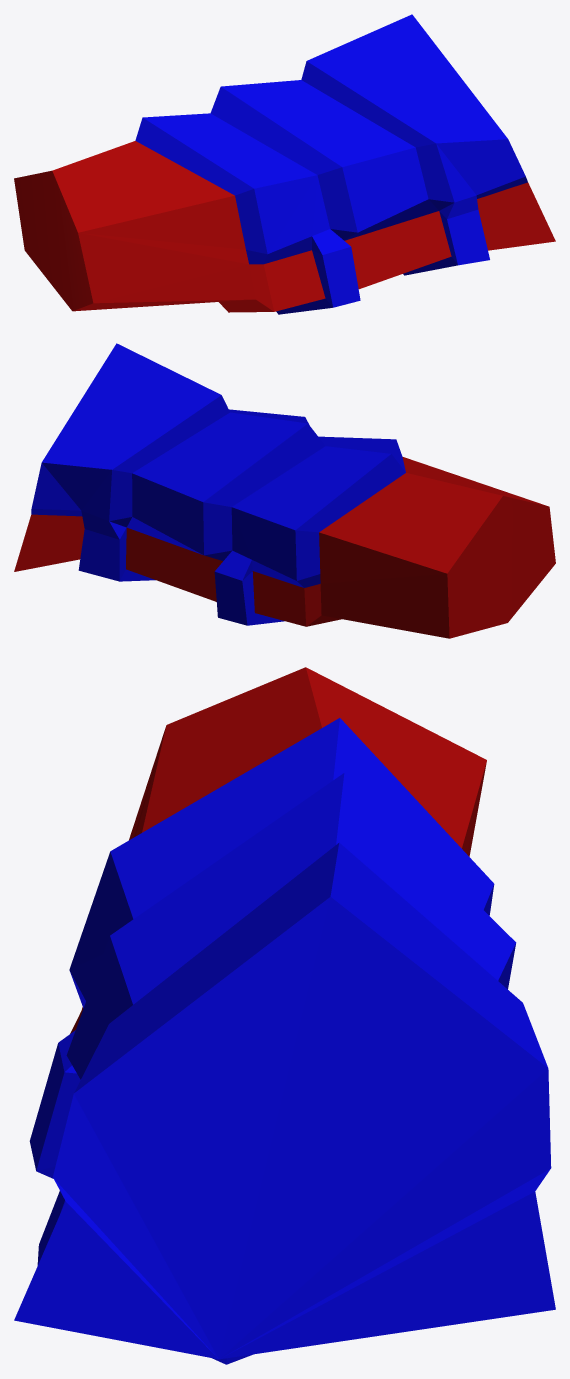
Rendered from Chr_ArmUpperRight_Male_Static_01.fbx.
The picture shows the model from 3 angles, top to bottom: view 1: azimuth 30°, elevation 25°; view 2: azimuth 150°, elevation 25°; view 3: azimuth 270°, elevation 25°; orthographic projection. The views are drawn at different scales.
Visible parts, largest first — view 1: Chr_ArmUpperRight_Male_01; view 2: Chr_ArmUpperRight_Male_01; view 3: Chr_ArmUpperRight_Male_01.
Part boxes in pixels (box(x1,y1,x2,y2)): Chr_ArmUpperRight_Male_01: box(14, 14, 555, 314); Chr_ArmUpperRight_Male_01: box(14, 343, 555, 638); Chr_ArmUpperRight_Male_01: box(14, 667, 555, 1364).
Size of the model in its own units: 32.04 by 17.18 by 17.36.
